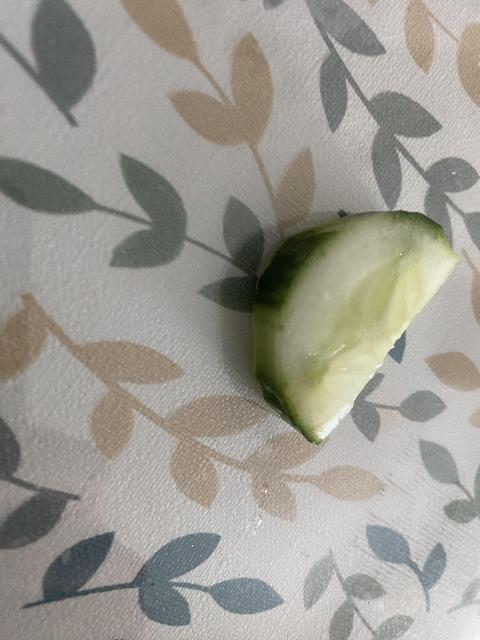Organik: (232, 195, 456, 443)
